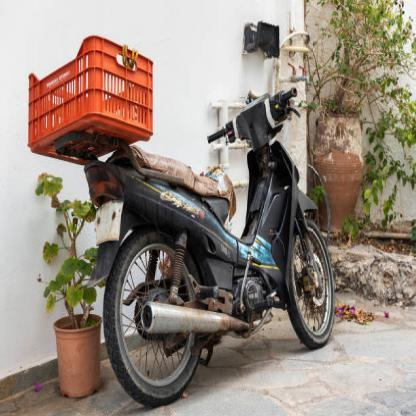Motorcycle: (71, 59, 340, 405)
